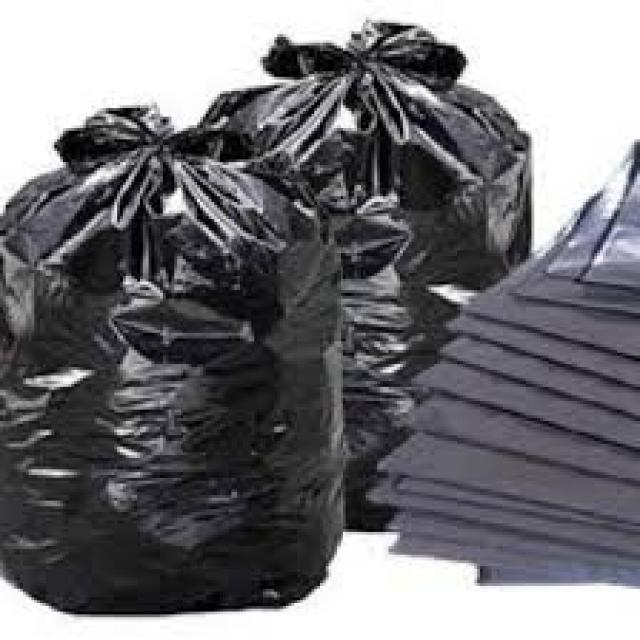plastic_bag: (4, 146, 338, 615), (247, 15, 527, 152), (338, 158, 424, 528)
